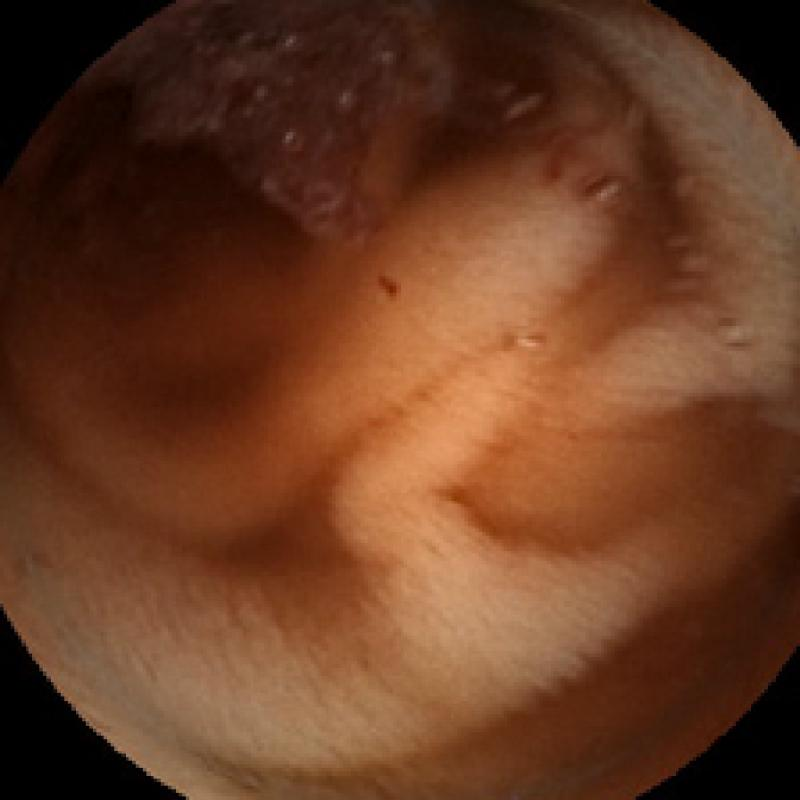bleeding: (114, 7, 425, 222), (375, 268, 402, 307)
